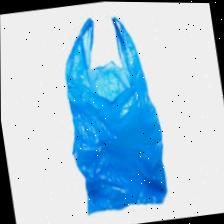plastic: (66, 15, 168, 215)
